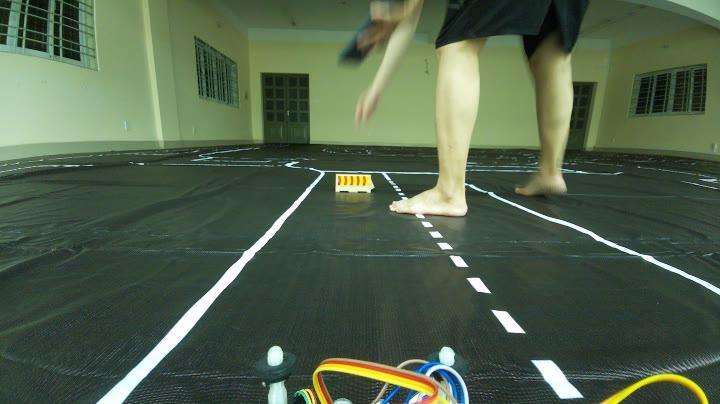roadblock: (331, 164, 379, 196)
